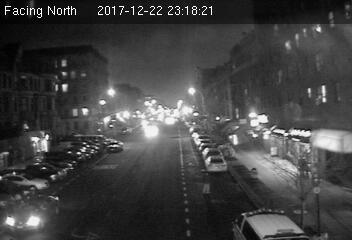car: (205, 155, 228, 173), (105, 141, 124, 151)
pedestrian: (201, 169, 214, 198)
police: (228, 208, 312, 240)
